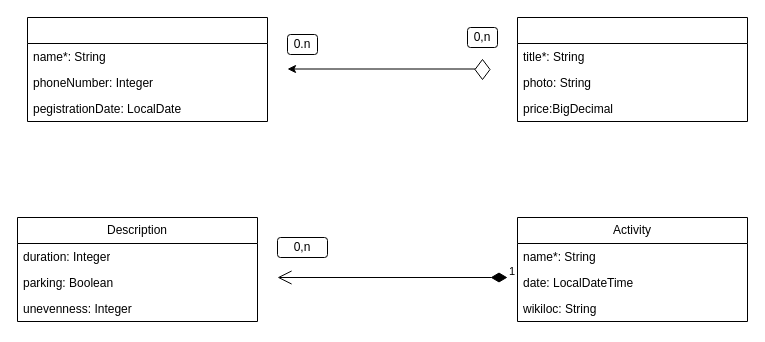
Image size: 765x342. Some labels were removed from this diagram. The shapes that lost their labels are listed below. From the top down, each one's box as (x1, y1, x2, y2) in pixels, then its label:
(26, 16, 268, 122): Person
(516, 16, 748, 122): Event
